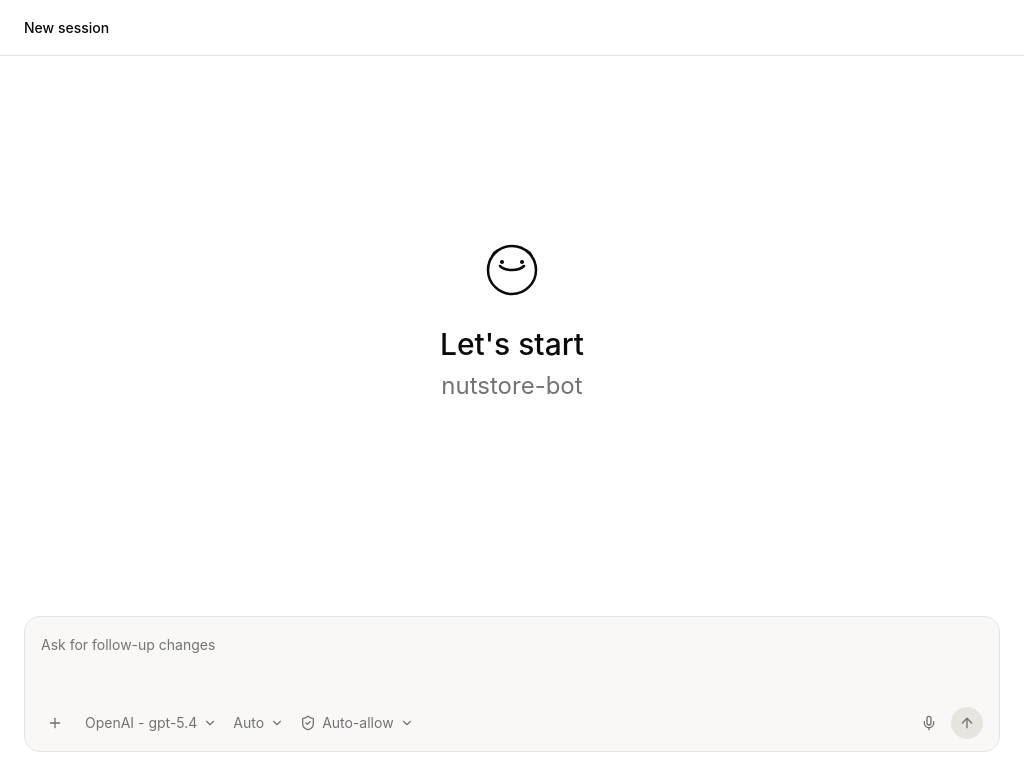
Test case: MainContent model selector › searches file mentions and submits selected mention payloads
Later steps or results of the test are not shown.
Type "Inspect @pag" into the text box with placeholder "Ask for follow-up changes".
click(512, 659); type("Inspect @pag")  # box [41,633,983,685]
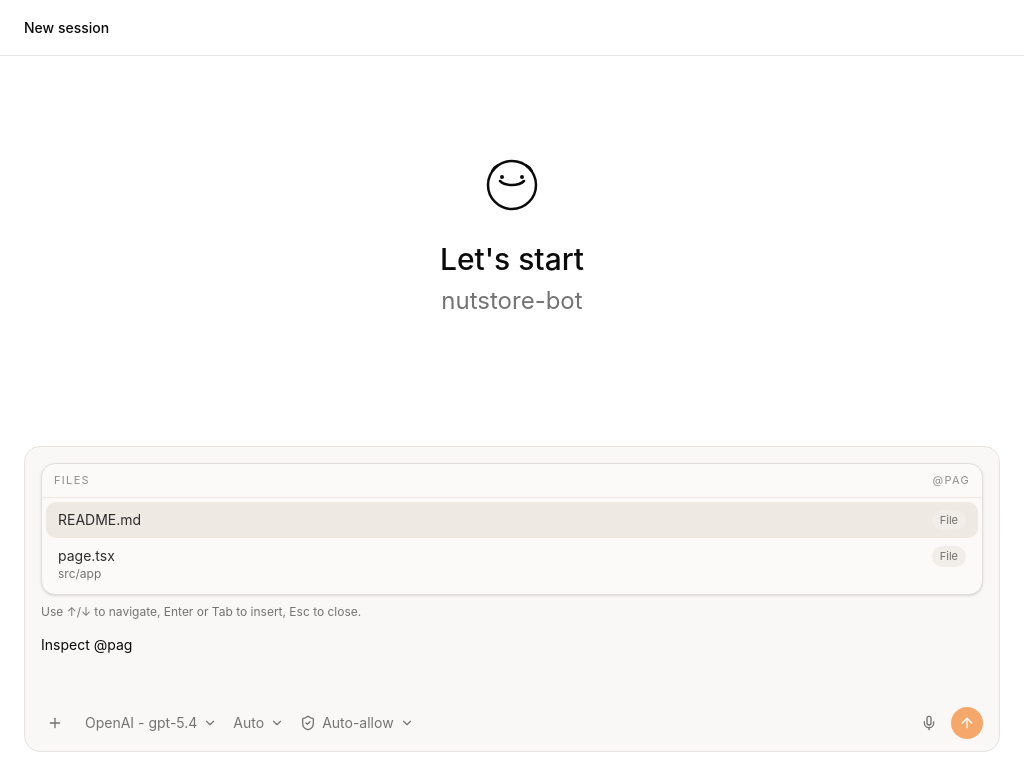
expect the text "src/app" is shown: met, box [58,566,101,581]
Click the text "page.tsx".
click(86, 556)  # box [58,547,115,564]
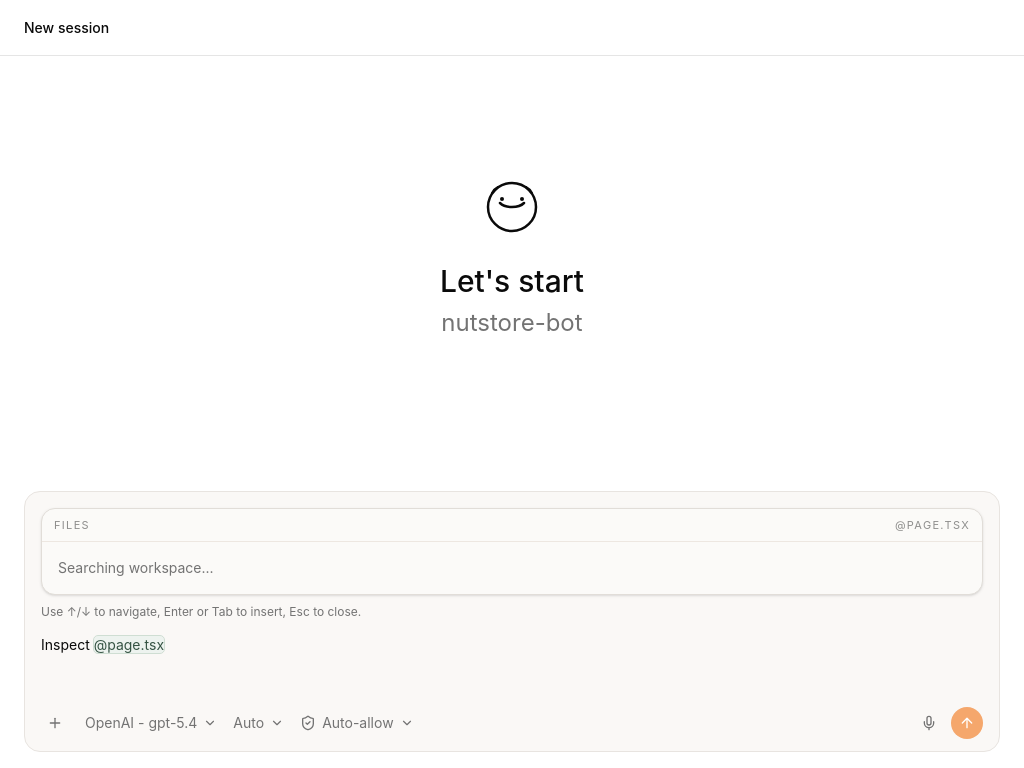
expect the text "@page.tsx" is shown: met, box [895,516,970,533]
